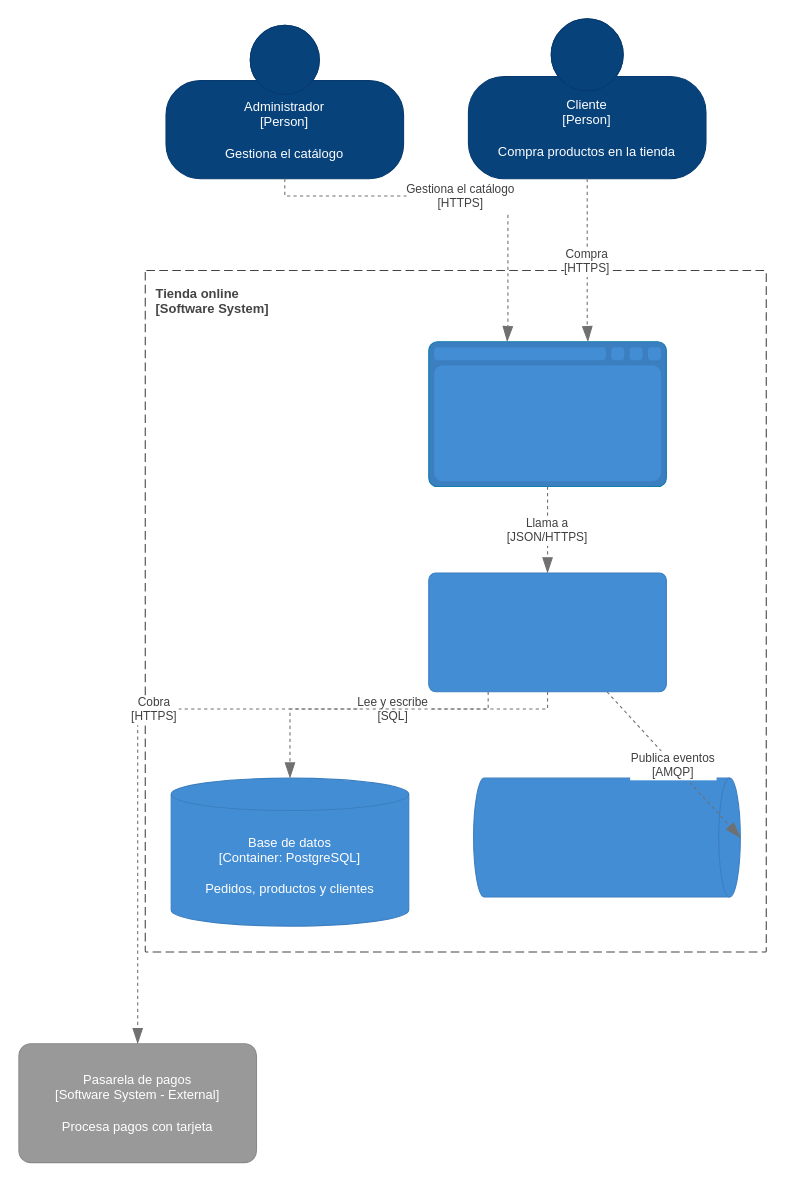
Image size: 785x1182. Some labels were removed from this diagram. Here are the shapes that lost their labels. From the top down, the box of each, then its label:
(428, 341, 666, 487): Aplicación web [Container: React] Interfaz de compra
(428, 572, 666, 692): API [Container: Nest.js] Lógica de pedidos y catálogo
(473, 777, 740, 897): Cola de eventos [Container: RabbitMQ]
